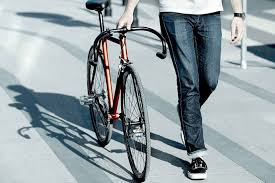bicycle: (67, 1, 170, 179)
